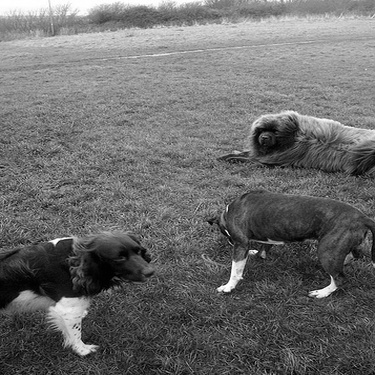dog: (1, 226, 162, 363), (204, 182, 364, 305), (220, 104, 370, 198)
